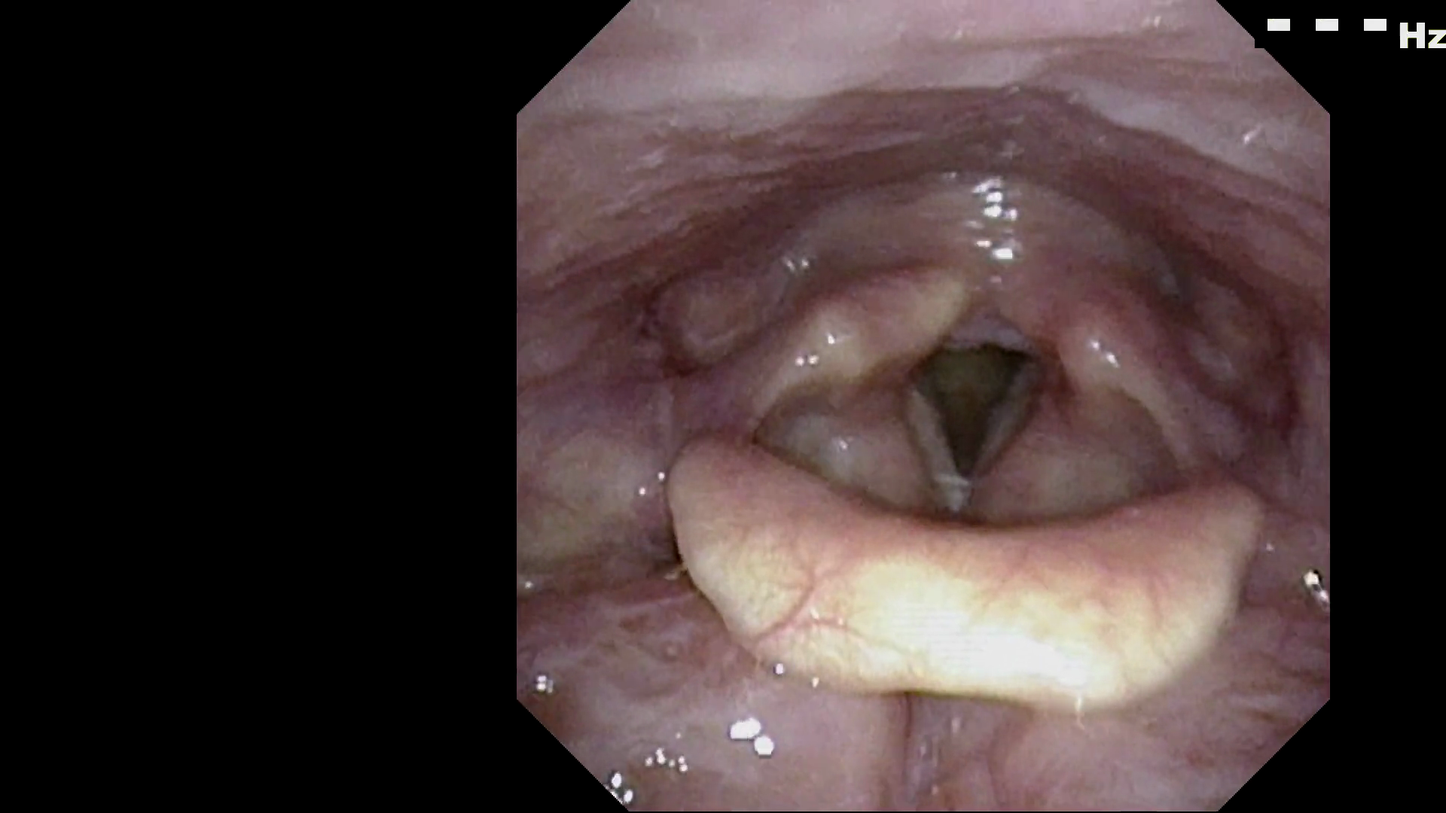epiglottis: (659, 412, 1276, 693)
trachea: (889, 316, 1055, 488)
